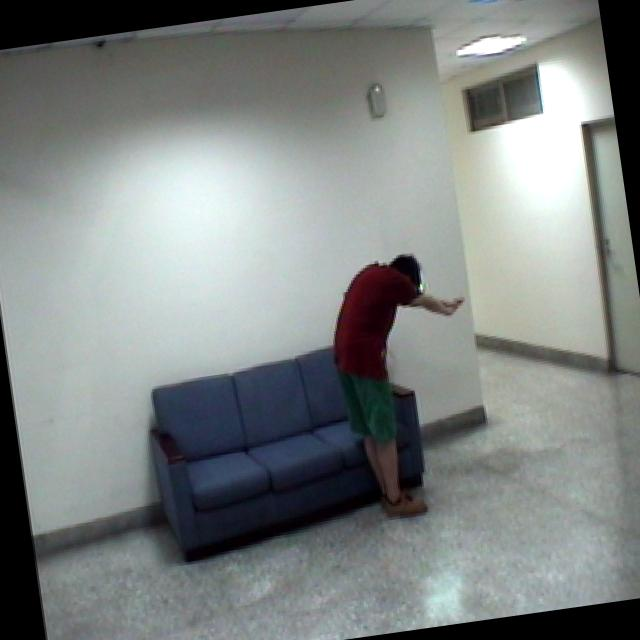bend: (316, 243, 497, 530)
